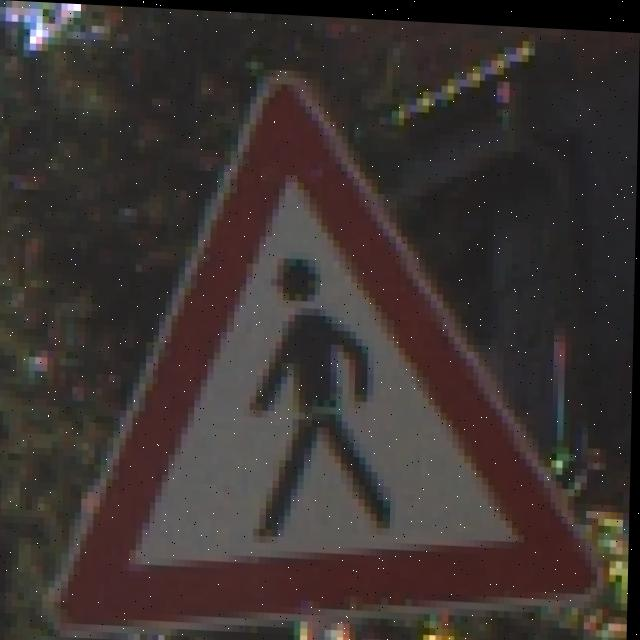crosswalk: (93, 71, 587, 634)
